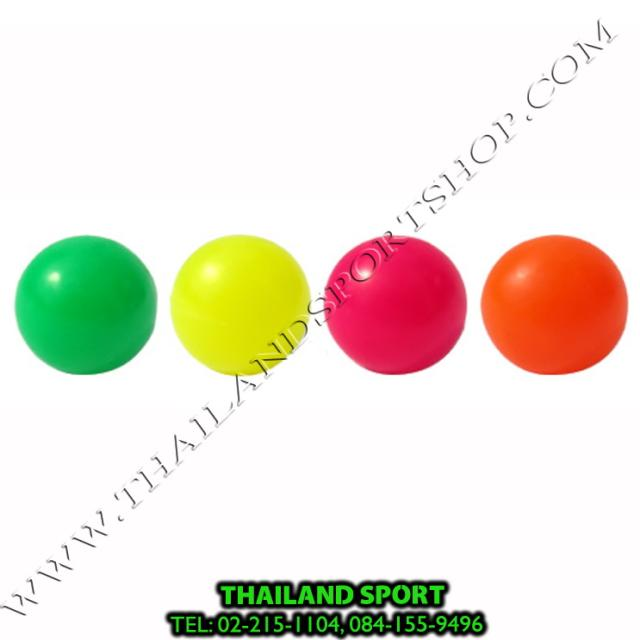hatball: (320, 232, 475, 379), (478, 232, 632, 378), (166, 233, 314, 379), (14, 234, 158, 378)
